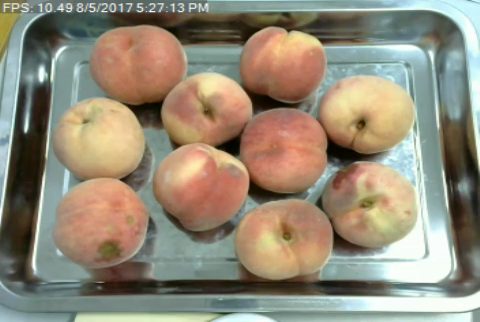Peach: (52, 176, 149, 268), (319, 158, 417, 249), (153, 141, 250, 232), (51, 95, 146, 182), (233, 200, 333, 280), (89, 23, 186, 104), (319, 75, 416, 155), (241, 105, 325, 190), (159, 72, 252, 148), (239, 25, 326, 103)
